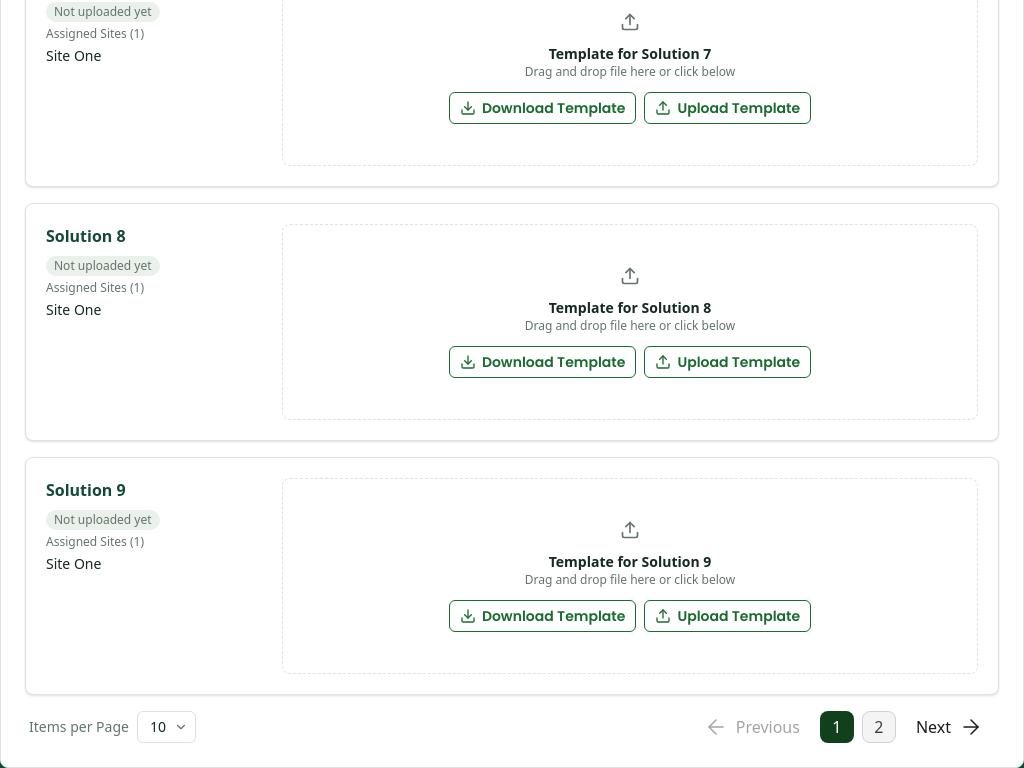
Test: TemplateStep › paginates solutions in scope, resetting to the first page when the page size changes
(page scrolled)
Expected: the text "Solution 11" is not shown
Select "20" in the dropdown labelled "Items per Page": (166, 727) [137,711,196,743]
(page scrolled)
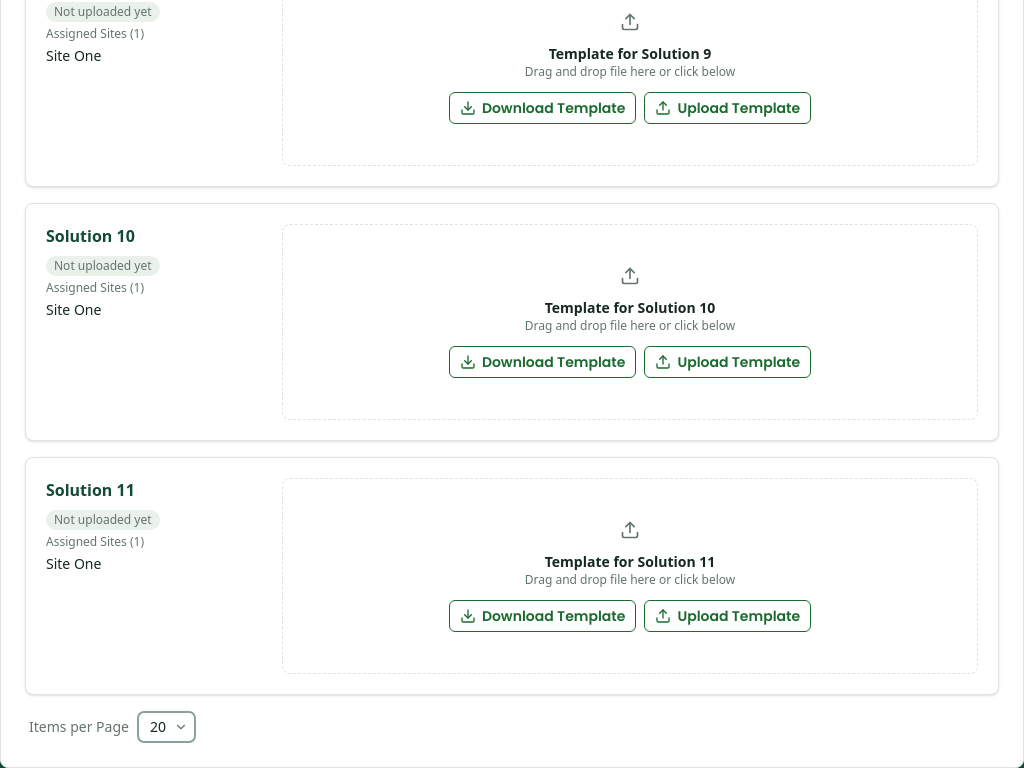
Result: the text "Solution 11" is shown at [46,479,135,501]
